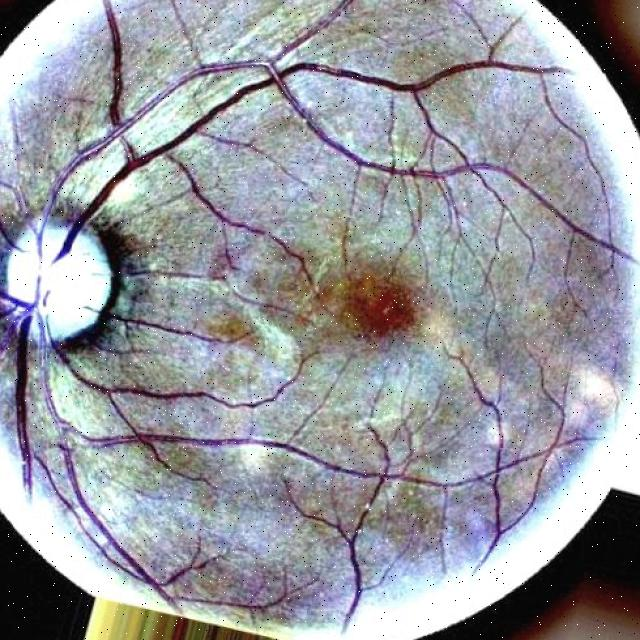Macula: (342, 274, 418, 338)
Nerves: (51, 340, 545, 626), (0, 265, 287, 611), (38, 0, 354, 264), (99, 263, 236, 345), (188, 176, 260, 234), (0, 215, 20, 251), (0, 181, 14, 193)
Optic Disk: (4, 217, 115, 341)
